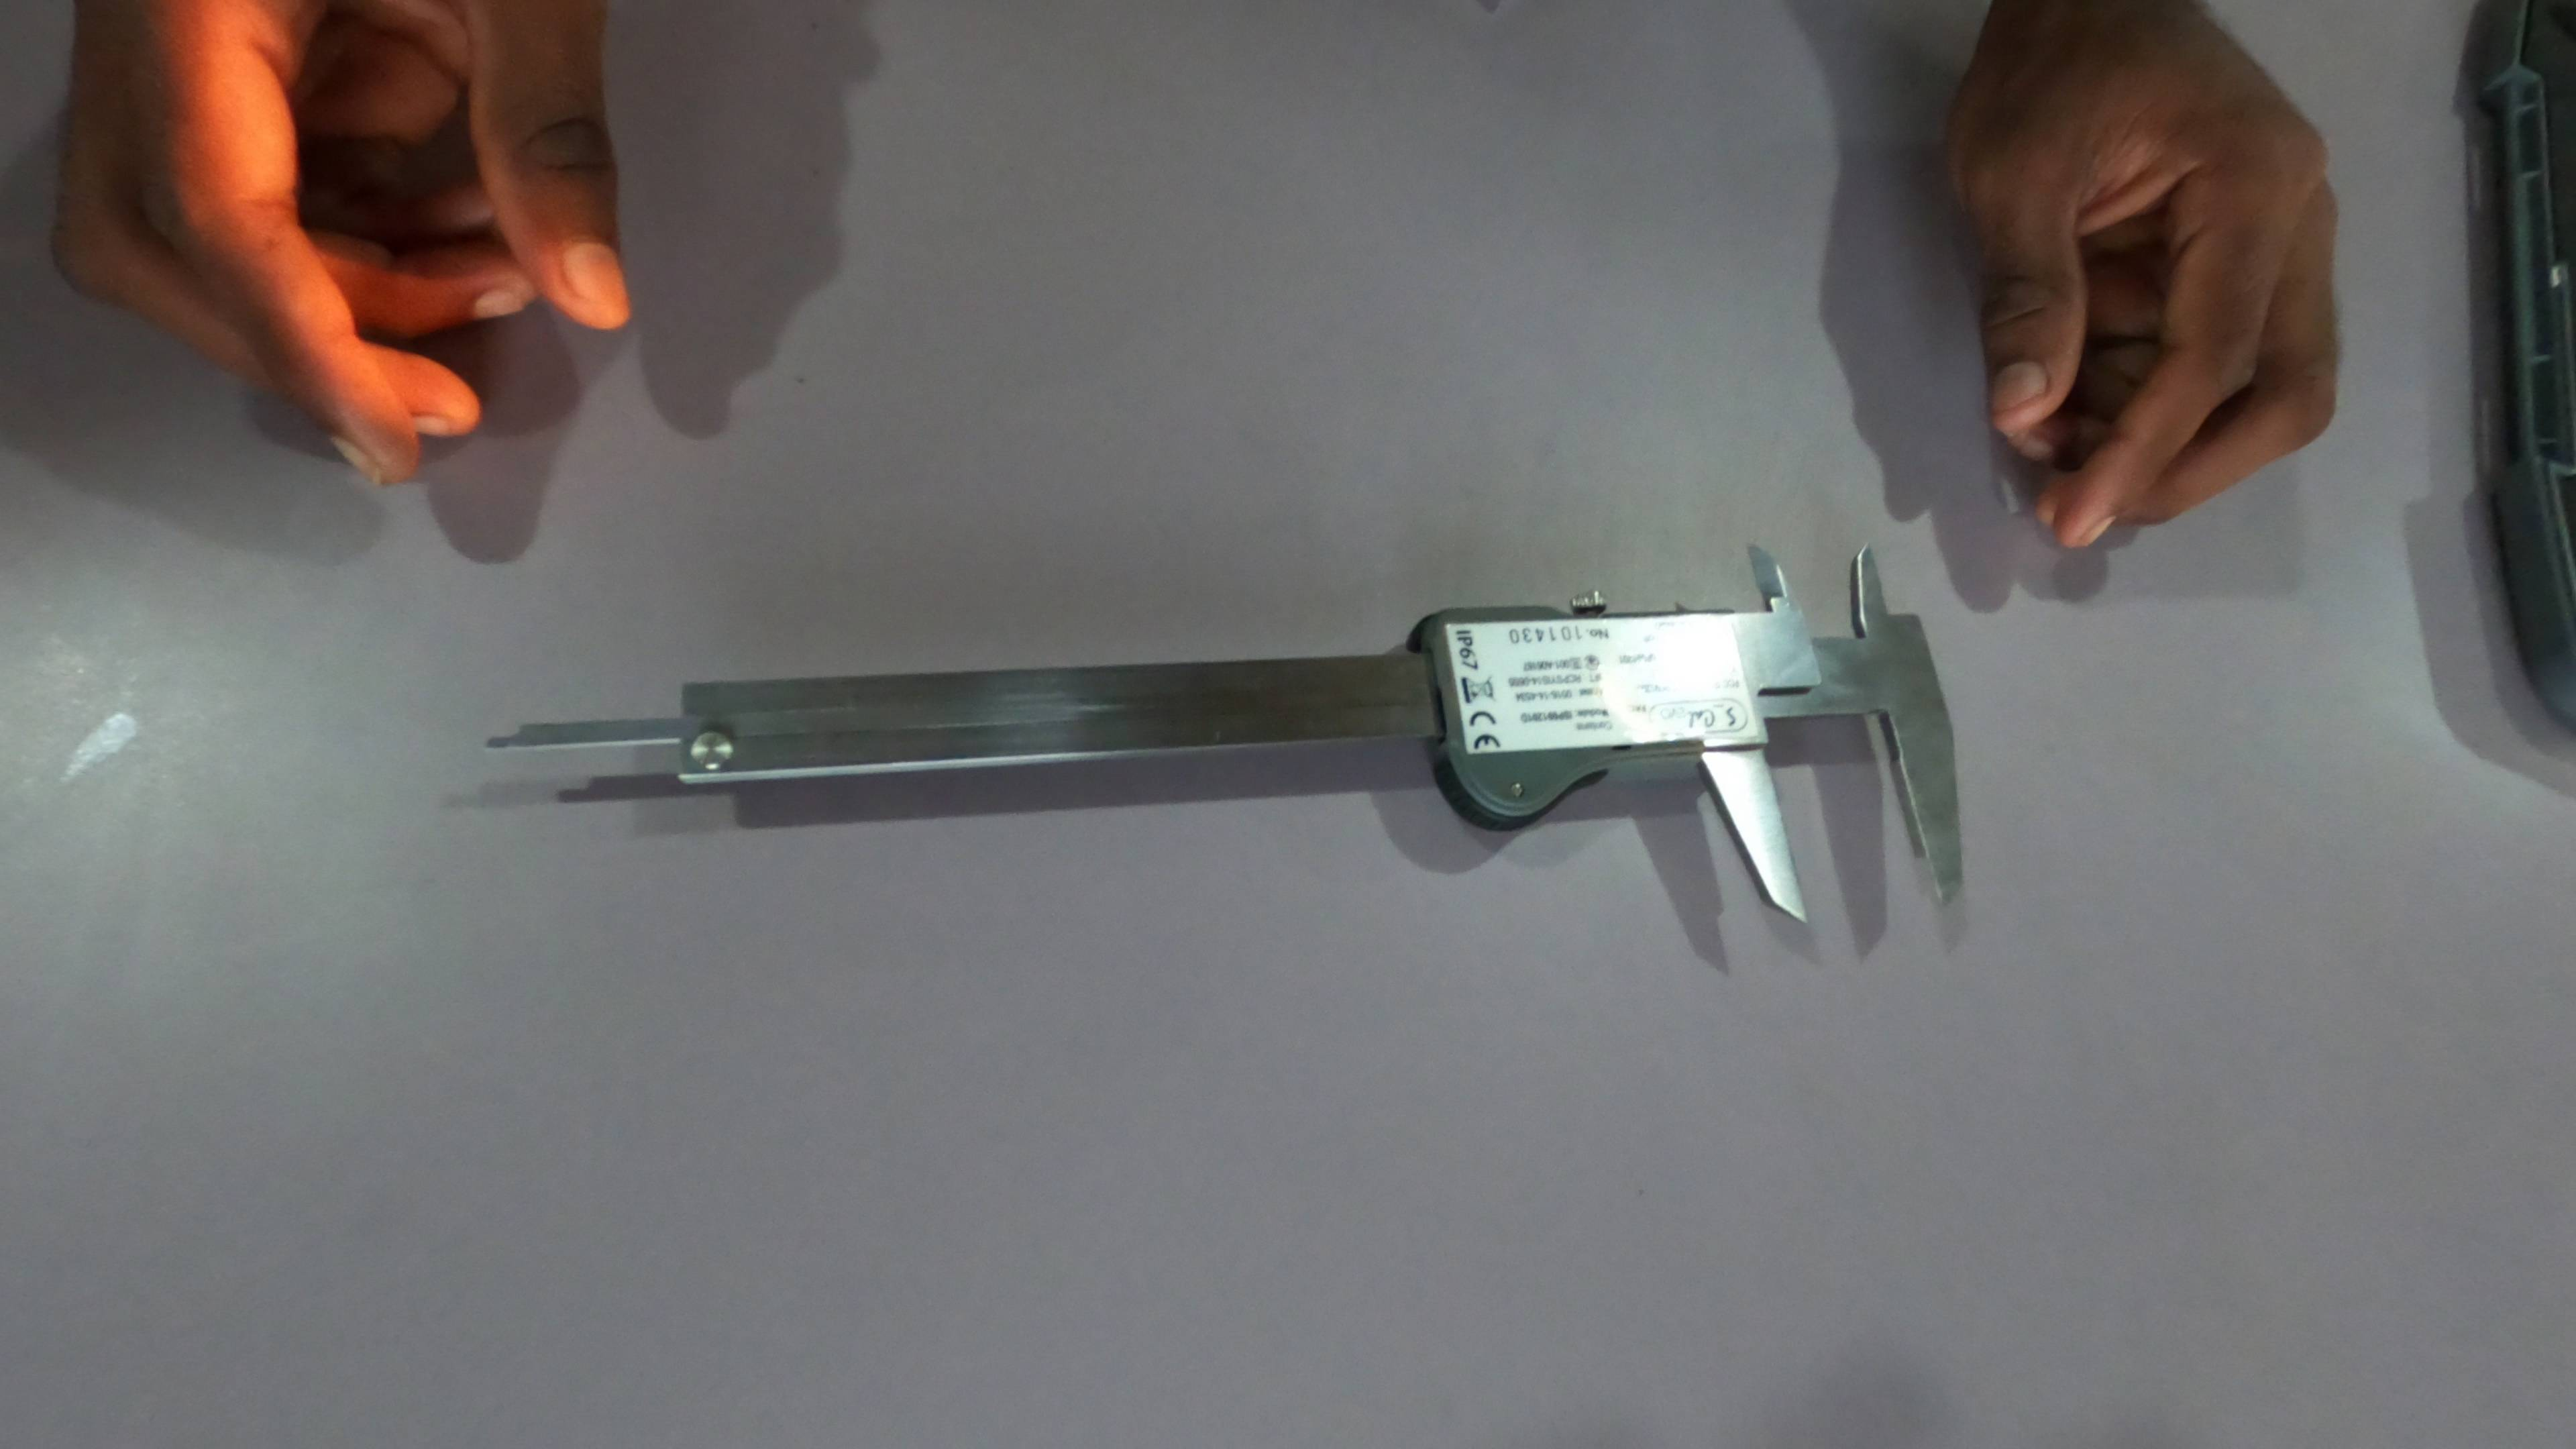vernier_caliper: (479, 545, 1978, 924)
